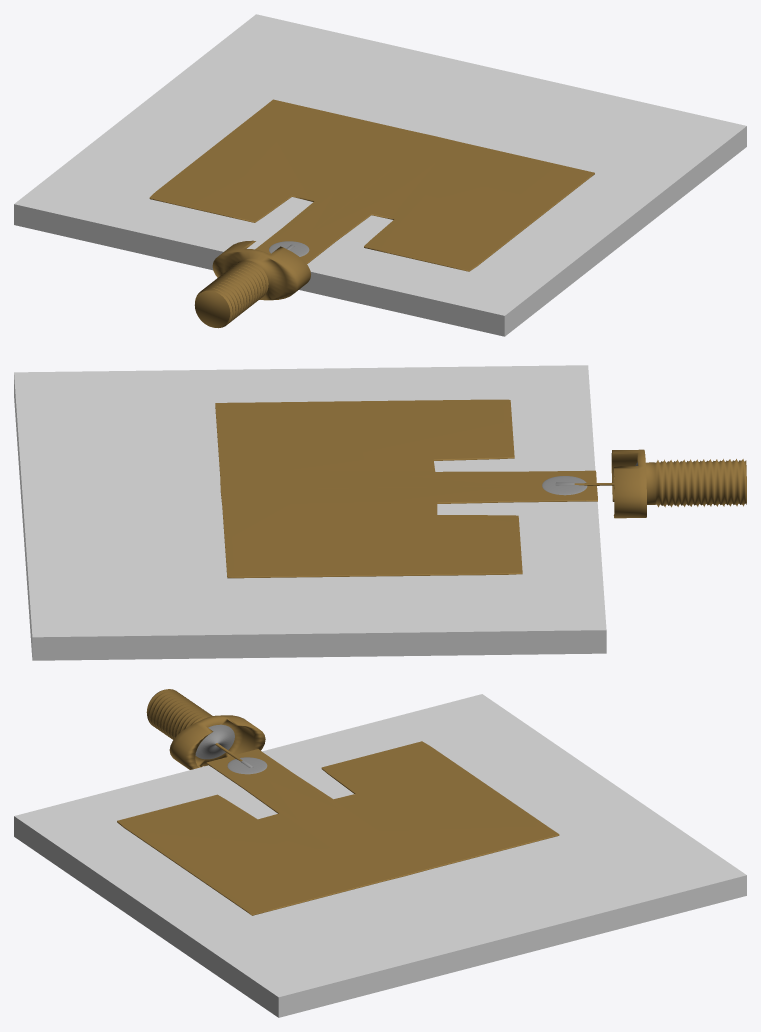
File: mikrostrip.gltf
3 views of the same model, one above another, from view 1: azimuth 30°, elevation 25°; view 2: azimuth 150°, elevation 25°; view 3: azimuth 270°, elevation 25° (orthographic). The views are drawn at different scales.
Visible parts, largest first — view 1: Cube, Plane, Cylinder; view 2: Cube, Plane, Cylinder, Sphere; view 3: Cube, Plane, Cylinder.
Part boxes in pixels (x1,y1,x2,y2): Cube: (14, 14, 746, 336); Plane: (149, 99, 594, 271); Cylinder: (194, 240, 310, 328); Cube: (14, 365, 606, 660); Plane: (215, 399, 597, 578); Cylinder: (555, 449, 746, 518); Sphere: (542, 476, 587, 495); Cube: (14, 694, 746, 1017); Plane: (117, 741, 559, 915); Cylinder: (146, 689, 265, 769).
Bounding box in the file's own units: 3.98 × 0.2914 × 4.07.
